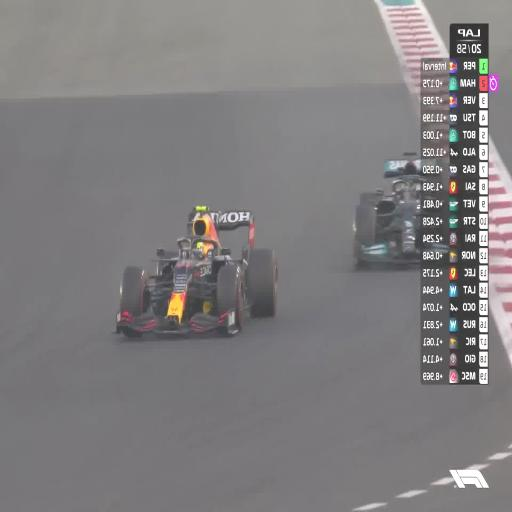f1_car: (116, 206, 278, 336), (354, 153, 449, 267), (423, 160, 429, 165), (432, 161, 437, 164)
